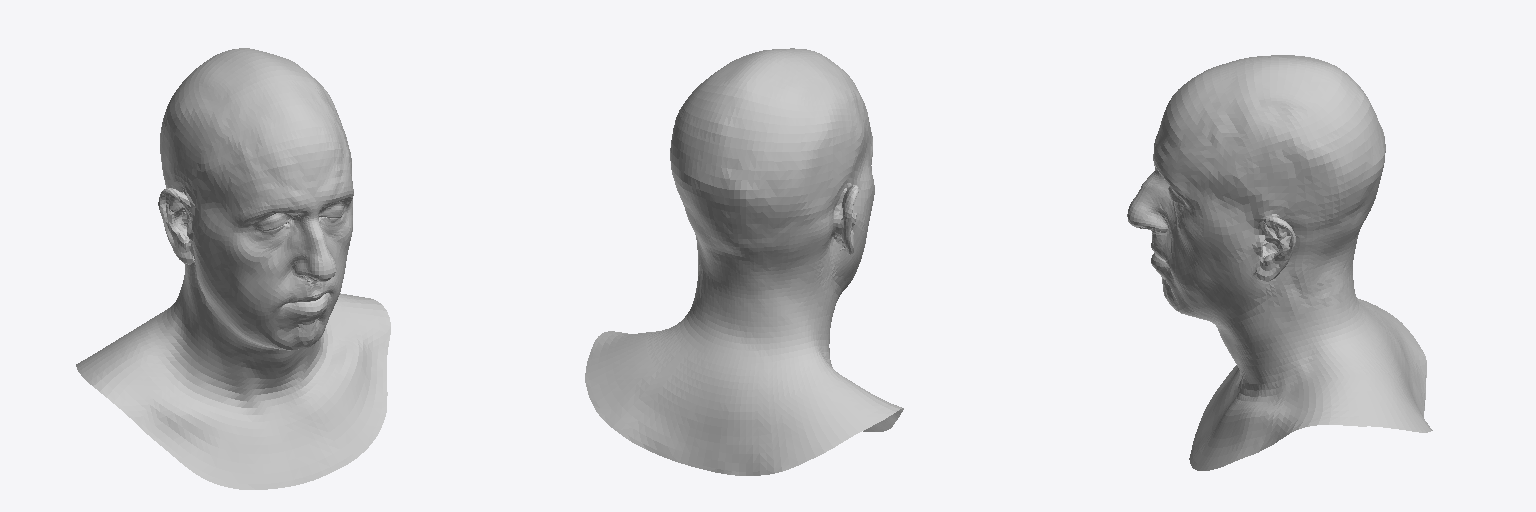
The model's file is headscan.obj.
The picture shows the model from 3 angles: view 1: azimuth 30°, elevation 25°; view 2: azimuth 150°, elevation 25°; view 3: azimuth 270°, elevation 25°; orthographic projection.
Parts seen in each view (by area): view 1: Head; view 2: Head; view 3: Head.
Boxes of the visible parts, x1,y1,x2,y2 form: Head: [76, 48, 390, 489]; Head: [585, 48, 903, 475]; Head: [1127, 55, 1432, 470].
Bounding box in the file's own units: 1.52 × 1.95 × 1.38.